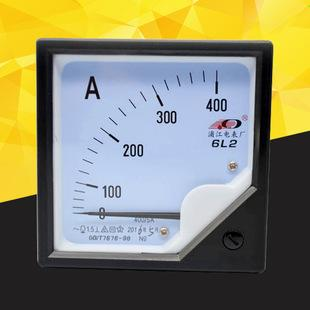pointer: (51, 49, 259, 262)
